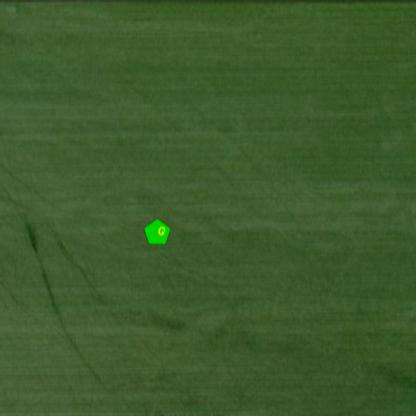g: (158, 225, 166, 238)
pentagon: (142, 218, 172, 250)
